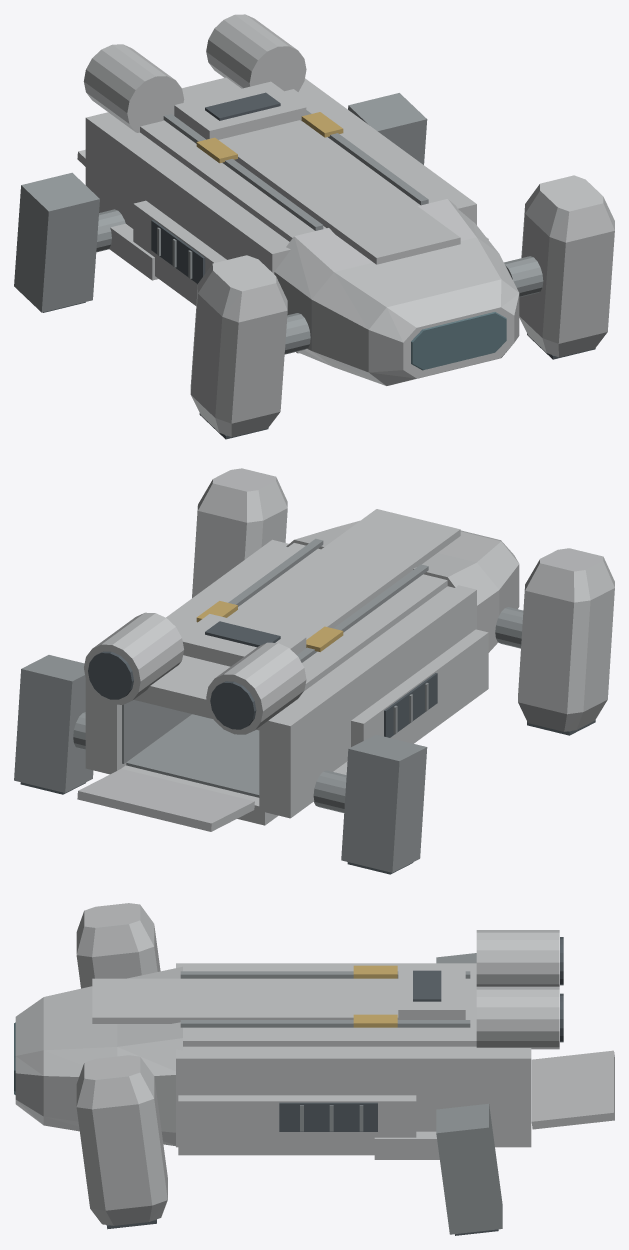
Rendered from shipit_white_cargo_open.glb.
3 views of the same model, one above another, from view 1: azimuth 30°, elevation 25°; view 2: azimuth 150°, elevation 25°; view 3: azimuth 270°, elevation 25° (orthographic). The views are drawn at different scales.
Visible parts, largest first — view 1: body_0, engine_L_pivot_housing, engine_R_pivot_housing, rear_L_pivot_housing, body_1, body_2, rear_R_pivot_housing, body_4, body_3; view 2: body_0, engine_L_pivot_housing, body_1, rear_L_pivot_housing, rear_R_pivot_housing, engine_R_pivot_housing, body_4, cargo_ramp_panel, body_3; view 3: body_0, engine_R_pivot_housing, rear_R_pivot_housing, cargo_ramp_panel, engine_L_pivot_housing, body_4, body_1, body_3.
Boxes of the visible parts, box(x1,y1,x2,y2) form: body_0: box(83, 14, 519, 385); engine_L_pivot_housing: box(190, 255, 287, 437); engine_R_pivot_housing: box(519, 175, 614, 357); rear_L_pivot_housing: box(14, 172, 99, 312); body_1: box(96, 110, 543, 354); body_2: box(411, 312, 506, 370); rear_R_pivot_housing: box(348, 93, 427, 164); body_4: box(151, 92, 280, 283); body_3: box(196, 112, 343, 163); body_0: box(84, 509, 519, 825); engine_L_pivot_housing: box(518, 548, 614, 731); body_1: box(73, 538, 523, 812); rear_L_pivot_housing: box(341, 734, 427, 872); rear_R_pivot_housing: box(14, 655, 93, 792); engine_R_pivot_housing: box(192, 468, 287, 597); body_4: box(88, 621, 437, 737); cargo_ramp_panel: box(77, 769, 254, 831); body_3: box(196, 601, 343, 651); body_0: box(15, 930, 559, 1159); engine_R_pivot_housing: box(76, 1055, 167, 1225); rear_R_pivot_housing: box(436, 1103, 502, 1234); cargo_ramp_panel: box(531, 1050, 614, 1129); engine_L_pivot_housing: box(76, 903, 160, 988); body_4: box(279, 937, 563, 1131); body_1: box(180, 971, 470, 1131); body_3: box(353, 965, 397, 1027).
Bounding box in the file's own units: 2.76 × 1.33 × 3.84.
